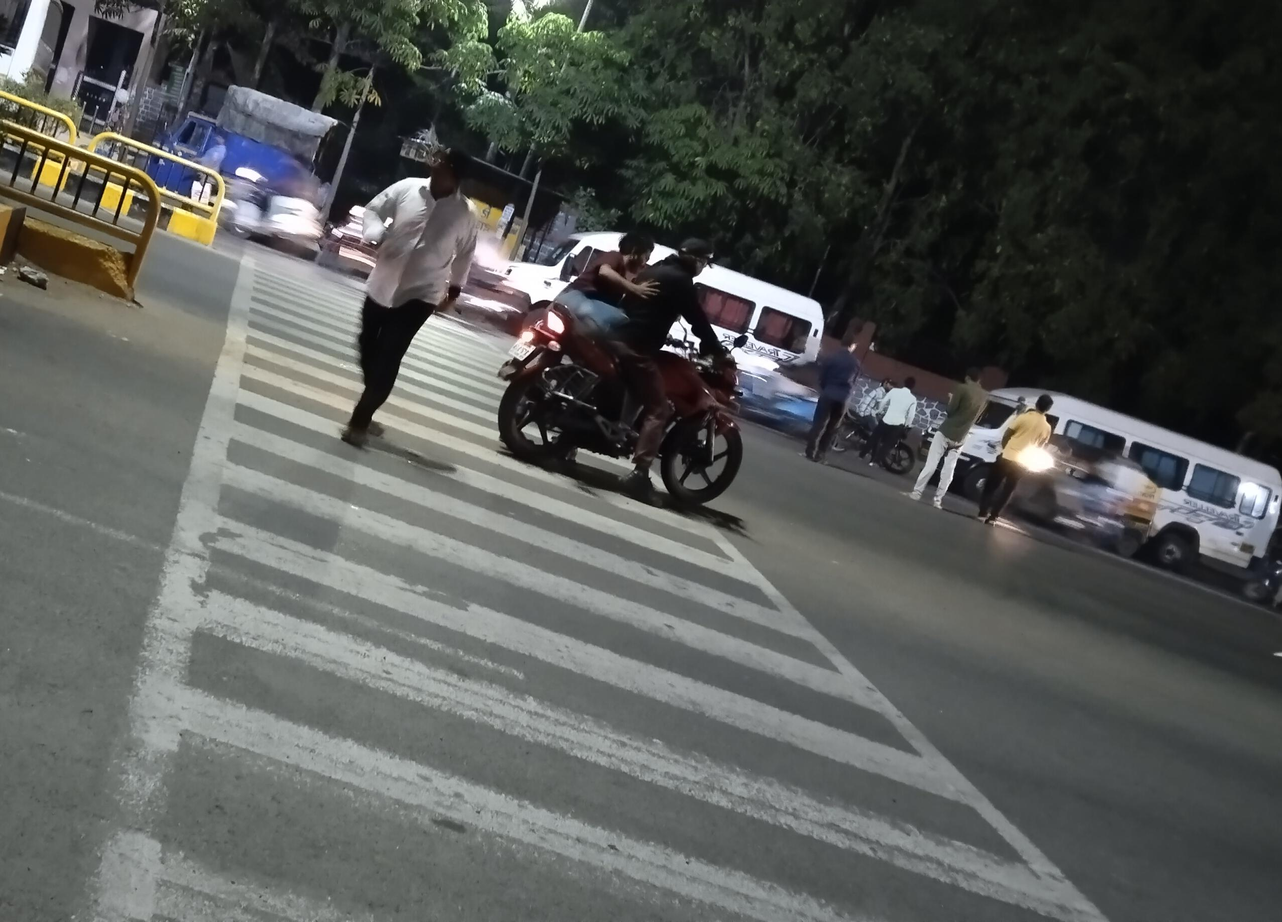crosswalk: (96, 230, 1116, 921)
